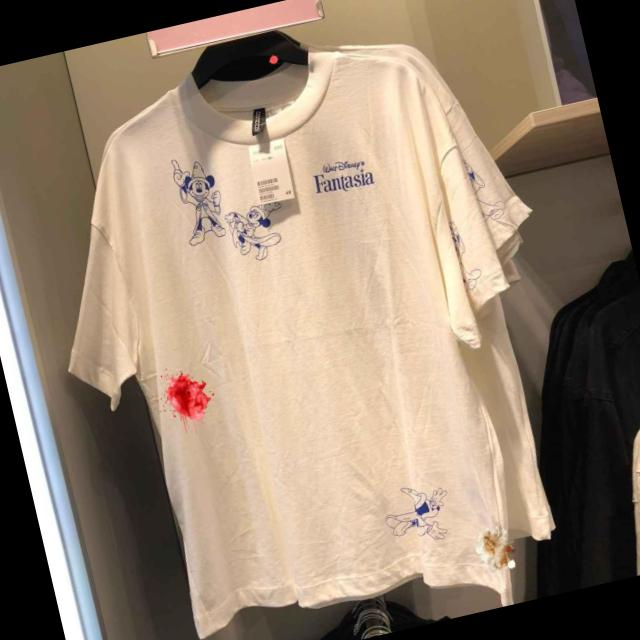stain: (150, 356, 230, 444), (470, 522, 520, 584), (266, 53, 284, 70)
